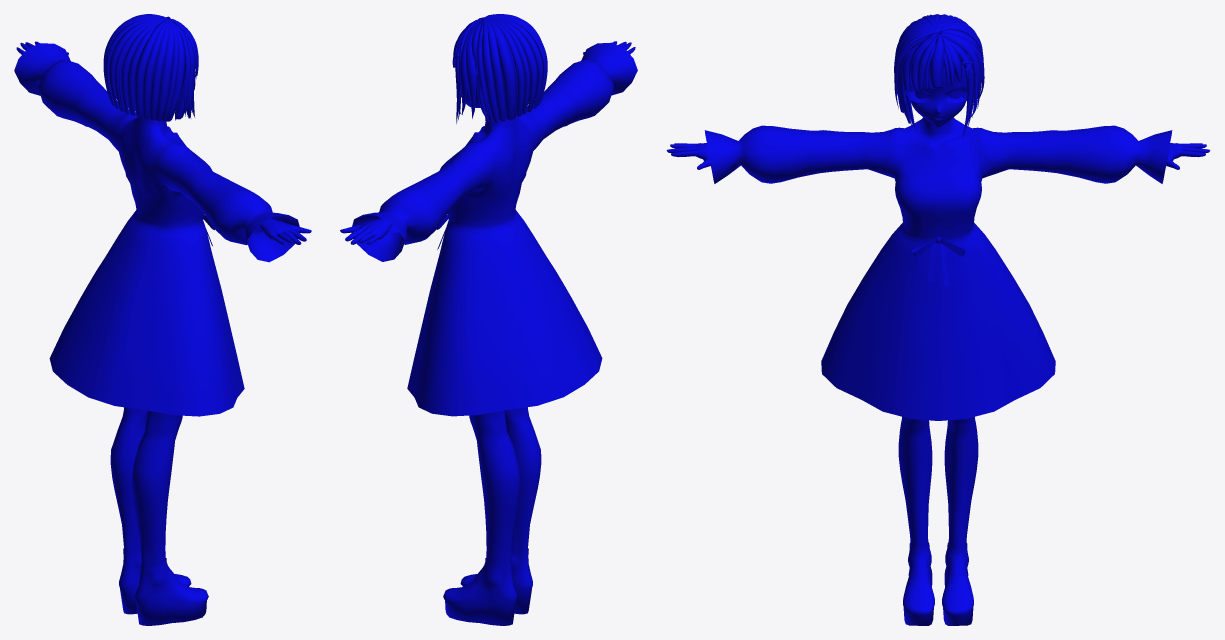
3 renders of one model, left to right at view 1: azimuth 30°, elevation 25°; view 2: azimuth 150°, elevation 25°; view 3: azimuth 270°, elevation 25°, orthographic.
Visible parts, largest first — view 1: Body.baked0, Hair001.baked0; view 2: Body.baked0, Hair001.baked0; view 3: Body.baked0, Hair001.baked0, Face.baked0.
Part boxes in pixels (x1,y1,x2,y2): Body.baked0: (14,41,311,625); Hair001.baked0: (103,14,198,121); Body.baked0: (340,41,637,625); Hair001.baked0: (452,14,547,123); Body.baked0: (666,64,1210,625); Hair001.baked0: (894,14,984,138); Face.baked0: (903,67,967,127).
Bounding box in the file's own units: 47.04 × 165 × 138.
